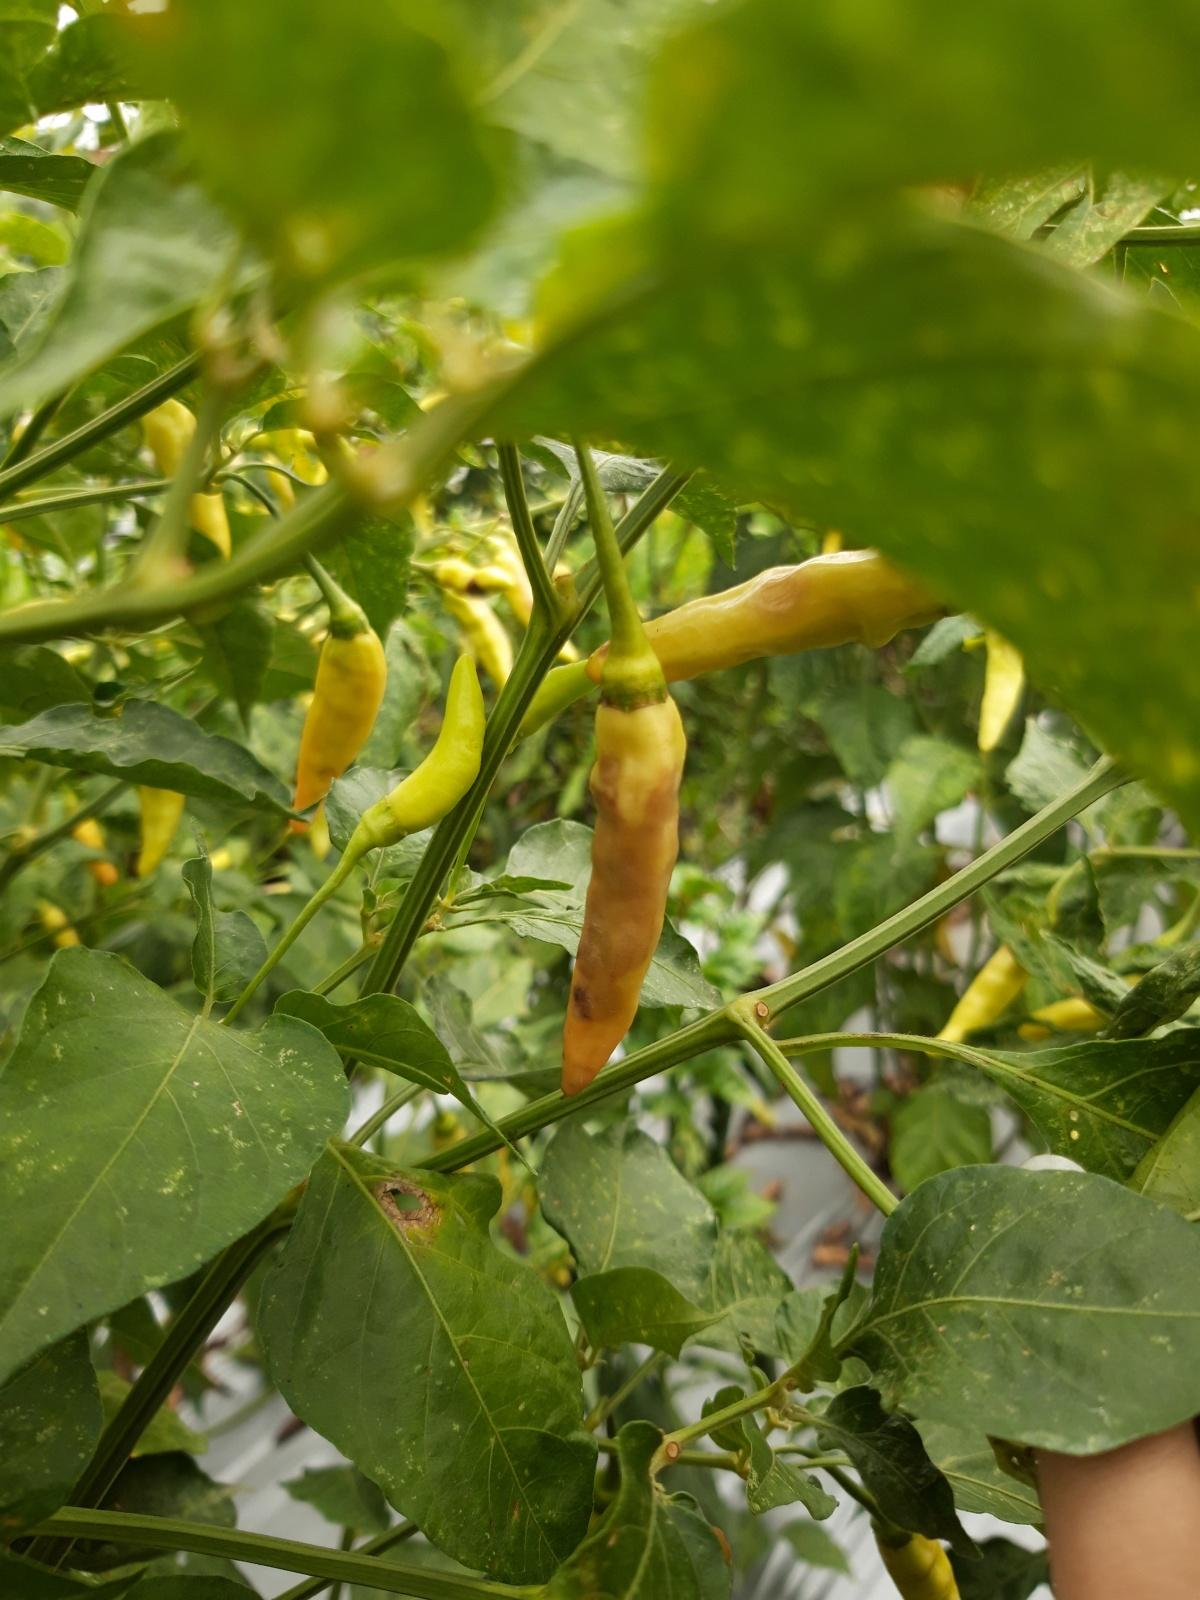cabai_normal: (364, 654, 490, 846), (924, 908, 1062, 1061), (296, 615, 388, 810), (145, 401, 234, 561)
lalat_buah: (558, 653, 688, 1105), (583, 546, 958, 688)
